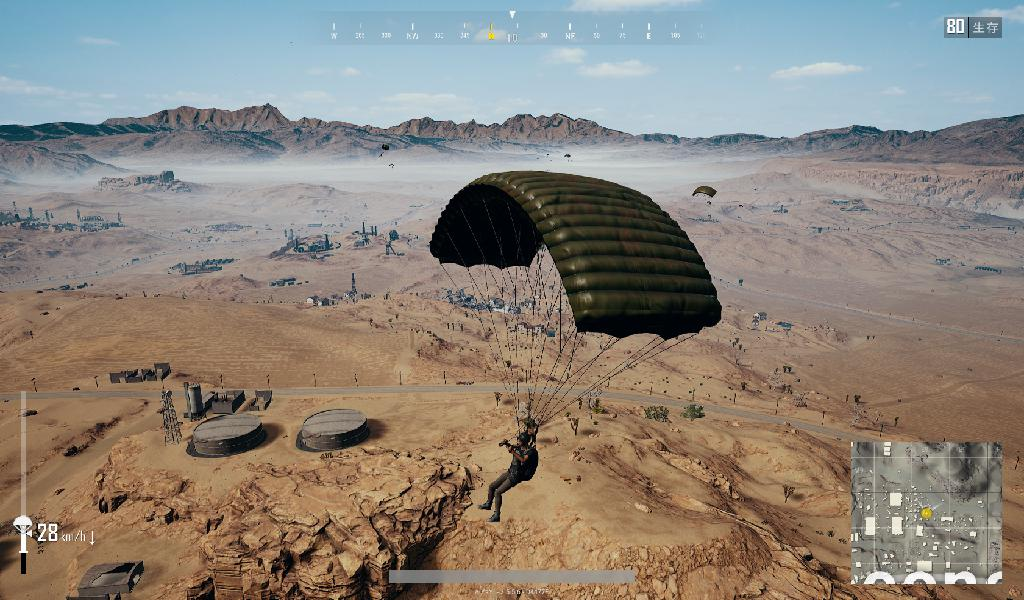Target Person: (479, 431, 540, 524)
